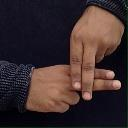hand: (69, 5, 124, 100), (24, 64, 121, 112)
